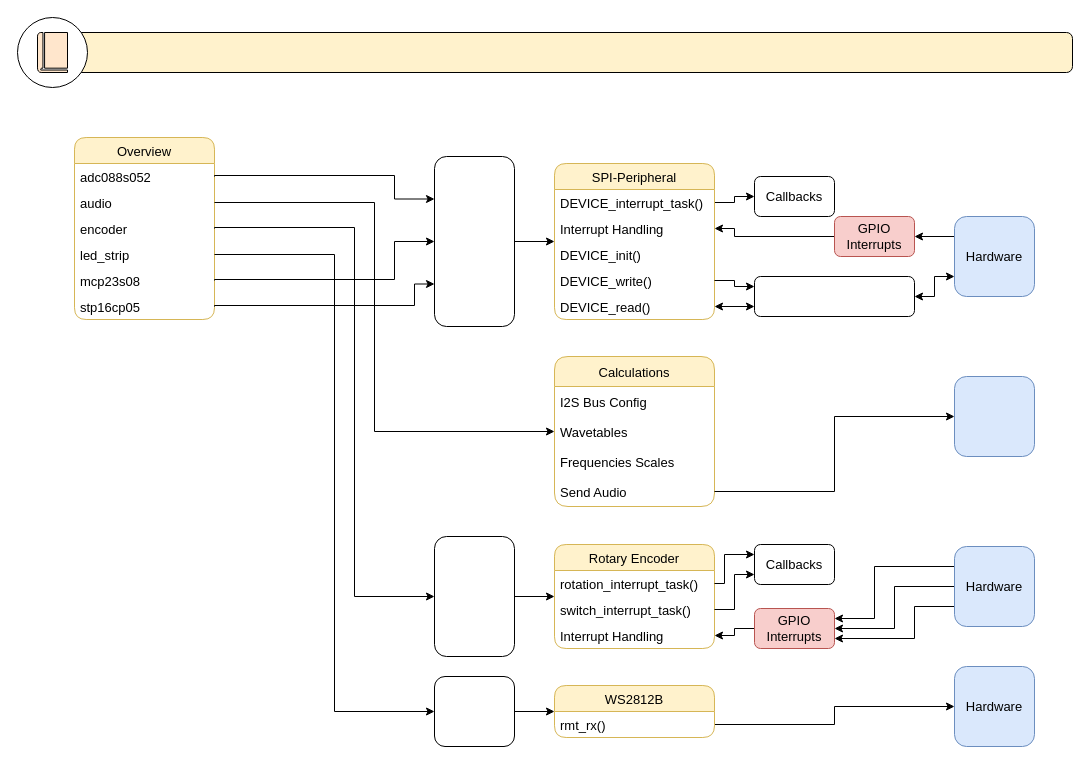
The diagram is 1090 pixels wide and 764 high, and some of its shapes have lost their labels. The centre of each missing label's shape, as x and y in pixels:
"Audio Out" goes at point 994,416.
"Custom Device" goes at point 474,596.
"LIBRARIES" goes at point 572,52.
"RMT Peripheral" goes at point 474,711.
"SPI Peripheral" goes at point 474,241.
"SPI-Bus" goes at point 834,296.
